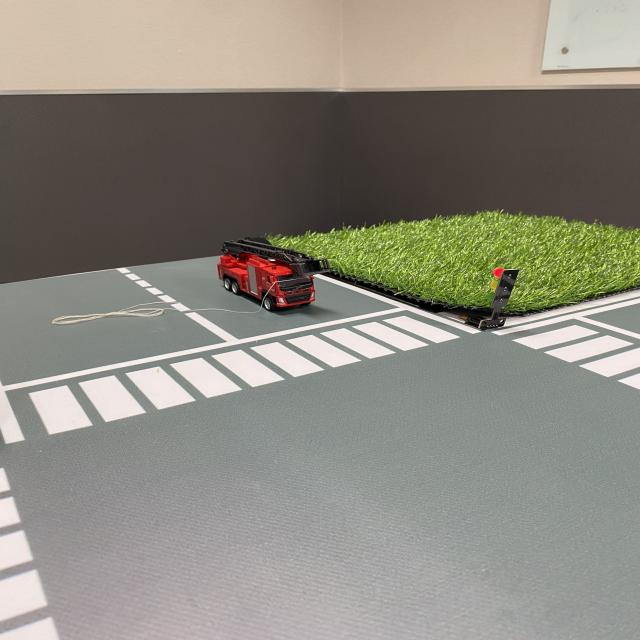Fire Truck: (215, 232, 335, 316)
